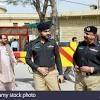uniform: (30, 37, 61, 92), (75, 33, 100, 91)
